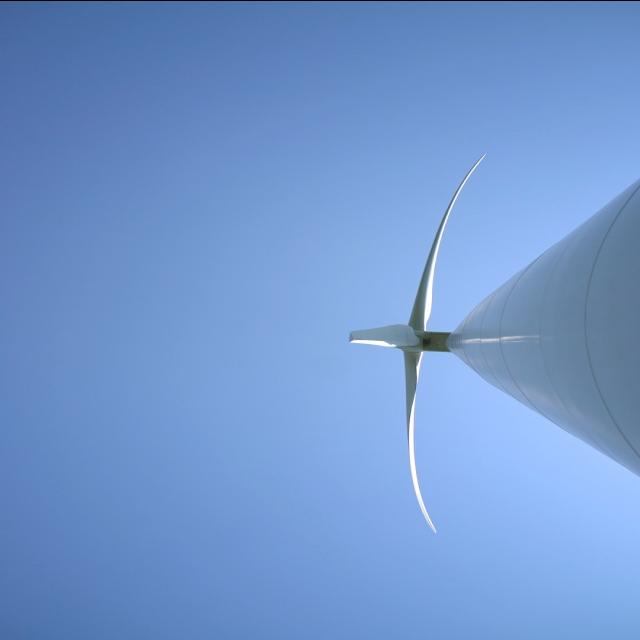blade 1: (402, 188, 456, 300)
blade 2: (399, 356, 427, 560)
blade 3: (338, 306, 392, 354)
